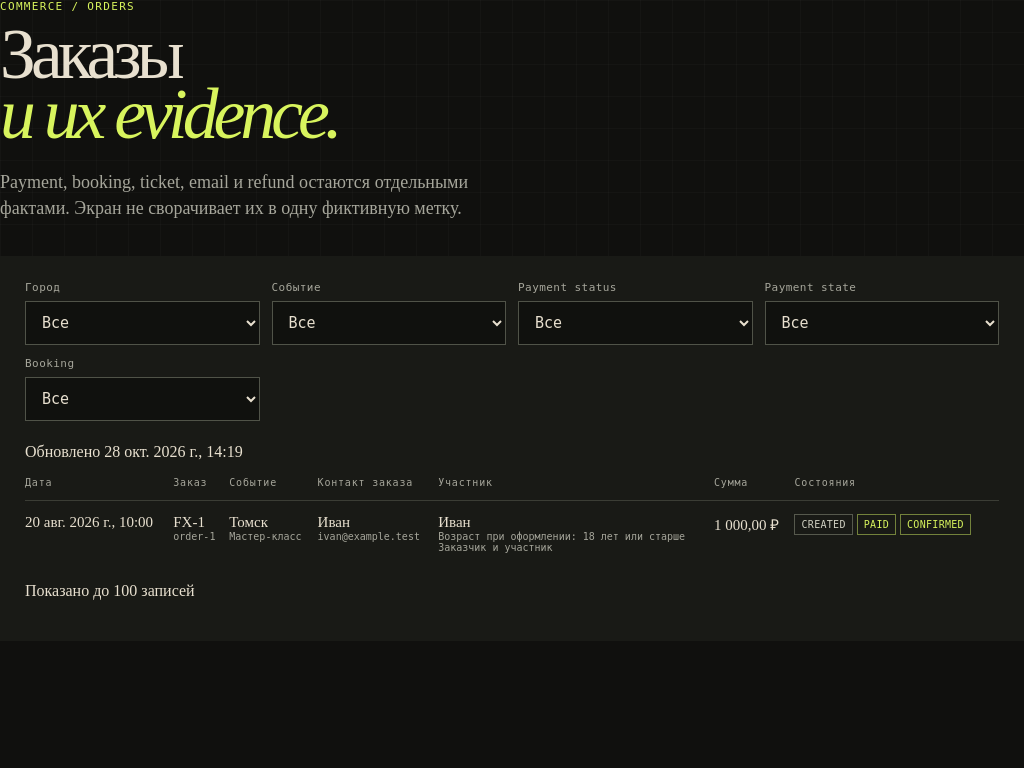
Test: Orders › never invalidates at the all()-width prefix: opening evidence for order-1 survives a refund on a different order's list refresh
This screenshot has width=1024, height=768.
Click the text "FX-1".
click(189, 522)  # box [173,514,205,530]
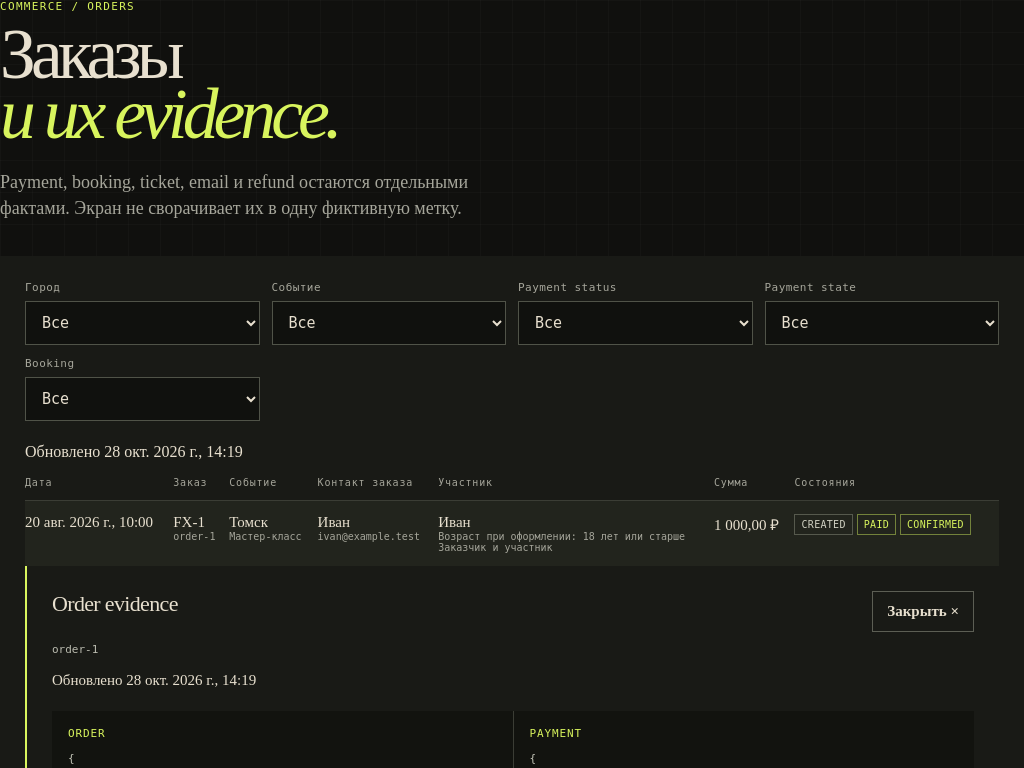
Result: the heading "Order evidence" is shown at [52,591,178,617]
